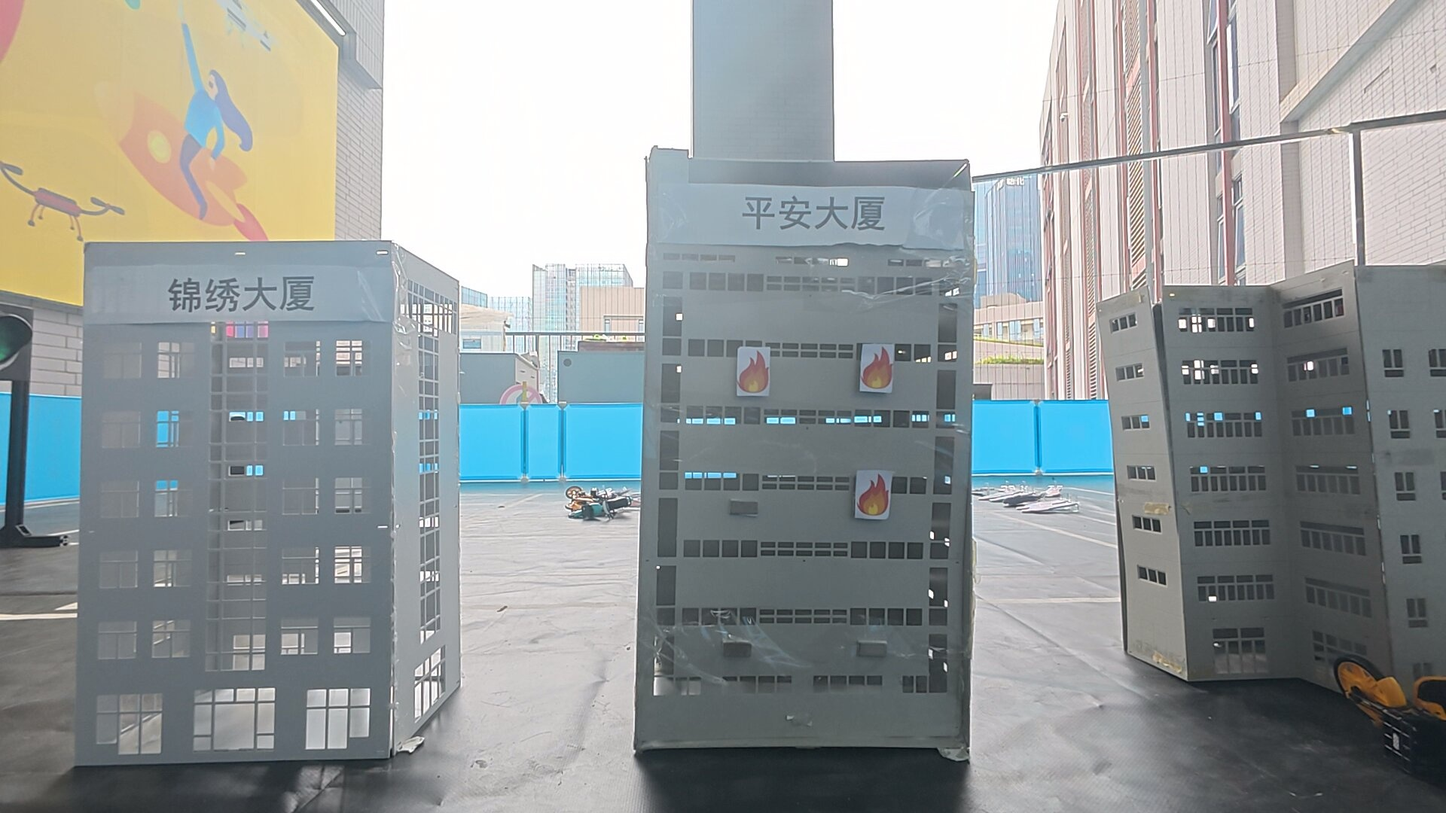fire: (735, 344, 773, 397), (855, 469, 894, 520), (859, 343, 897, 393)
